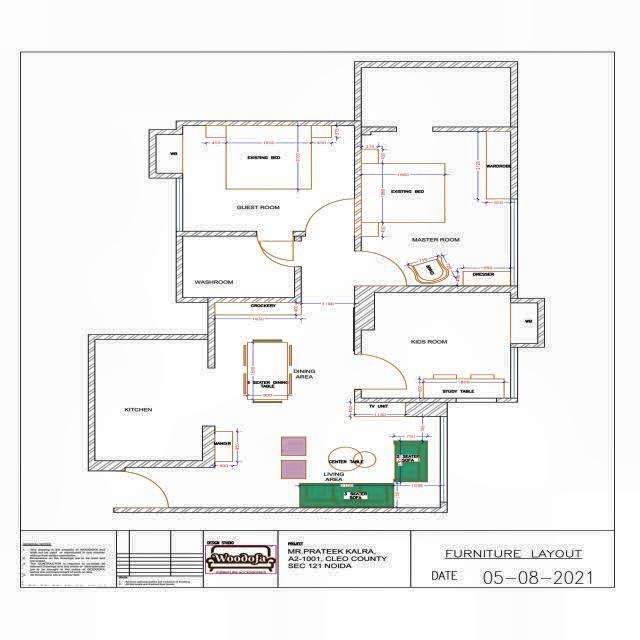room: (155, 126, 356, 303), (172, 402, 441, 508), (359, 133, 513, 285), (362, 292, 539, 397), (213, 302, 355, 403), (94, 338, 207, 461), (361, 68, 511, 127), (181, 236, 295, 299)
